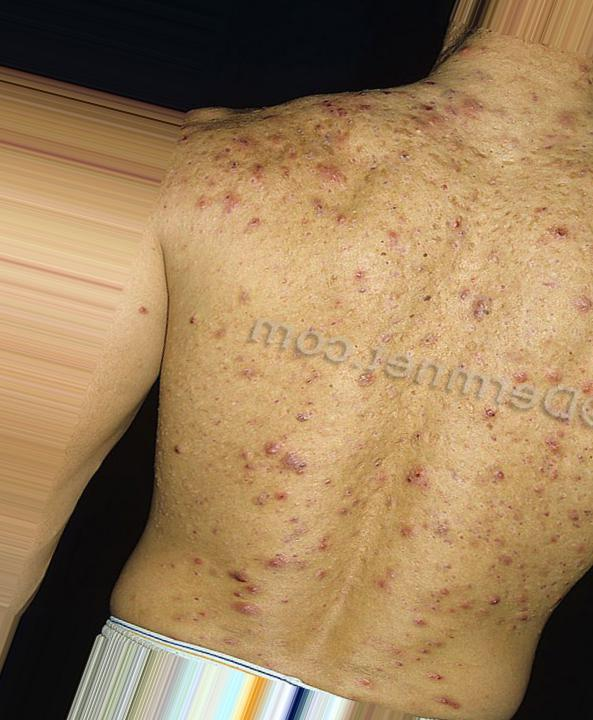Acne: (235, 559, 525, 709), (193, 117, 406, 305), (419, 109, 590, 341), (219, 349, 421, 544), (393, 397, 593, 580)
